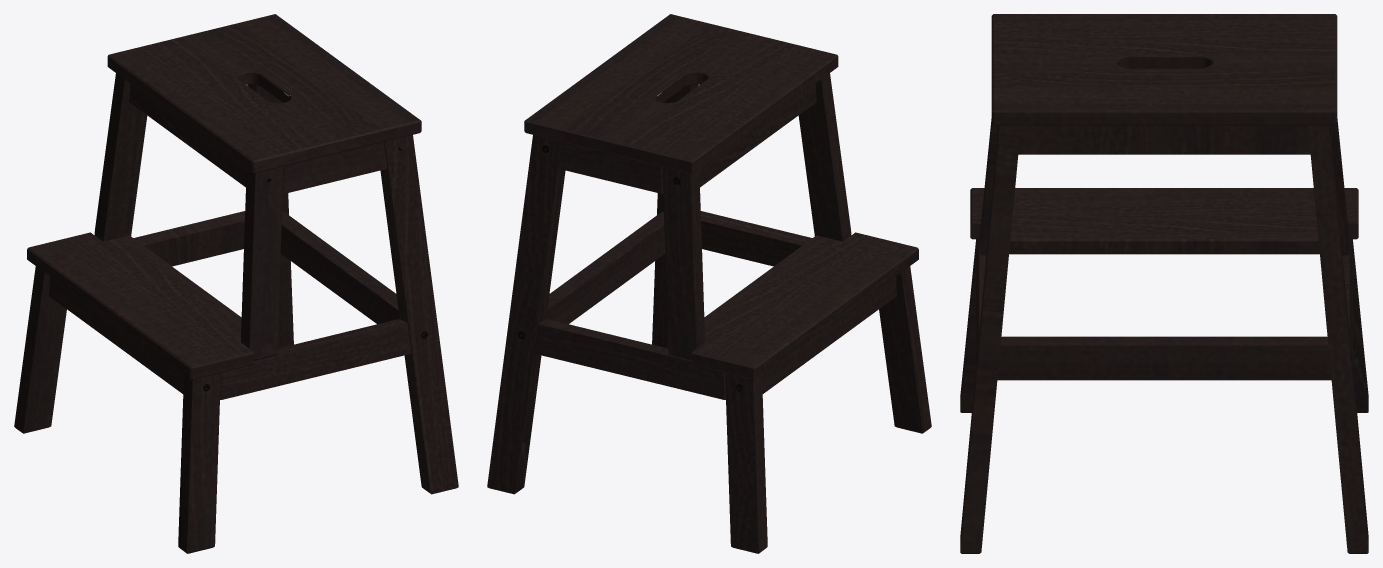
Rendered from BEKVAM.glb.
The picture shows the model from 3 angles, left to right: view 1: azimuth 30°, elevation 25°; view 2: azimuth 150°, elevation 25°; view 3: azimuth 270°, elevation 25°; orthographic projection. The views are drawn at different scales.
Visible parts, largest first — view 1: whole_legR, whole_topPlane, whole_step, whole_legL, whole_backBottomRail, whole_frontBottomRail, whole_frontTopRail; view 2: whole_legL, whole_topPlane, whole_step, whole_legR, whole_backBottomRail, whole_frontBottomRail, whole_frontTopRail; view 3: whole_topPlane, whole_step, whole_backBottomRail, whole_legL, whole_legR, whole_backTopRail.
Boxes of the visible parts, <box> form: whole_legR: <box>178,135,458,553</box>; whole_topPlane: <box>107,14,421,173</box>; whole_step: <box>27,232,253,379</box>; whole_legL: <box>14,73,293,433</box>; whole_backBottomRail: <box>280,211,399,324</box>; whole_frontBottomRail: <box>49,276,183,393</box>; whole_frontTopRail: <box>129,84,246,187</box>; whole_legL: <box>487,135,767,553</box>; whole_topPlane: <box>524,14,838,173</box>; whole_step: <box>692,232,918,379</box>; whole_legR: <box>652,73,931,433</box>; whole_backBottomRail: <box>546,211,665,324</box>; whole_frontBottomRail: <box>762,276,896,393</box>; whole_frontTopRail: <box>699,84,816,187</box>; whole_topPlane: <box>991,14,1337,125</box>; whole_step: <box>970,188,1358,254</box>; whole_backBottomRail: <box>997,336,1331,380</box>; whole_legL: <box>1308,119,1368,553</box>; whole_legR: <box>960,119,1020,553</box>; whole_backTopRail: <box>1018,125,1310,154</box>.
Bounding box in the file's own units: 0.3885 × 0.4974 × 0.4277.
Materials: 5 (4 with a texture image).
